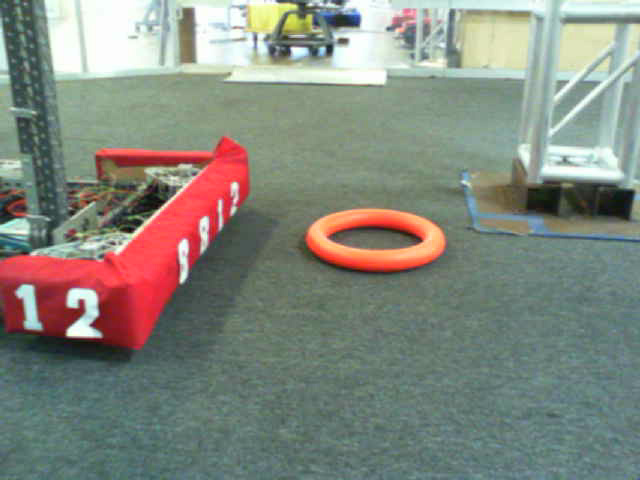Note: (309, 212, 449, 275)
Robot: (8, 117, 251, 354)
